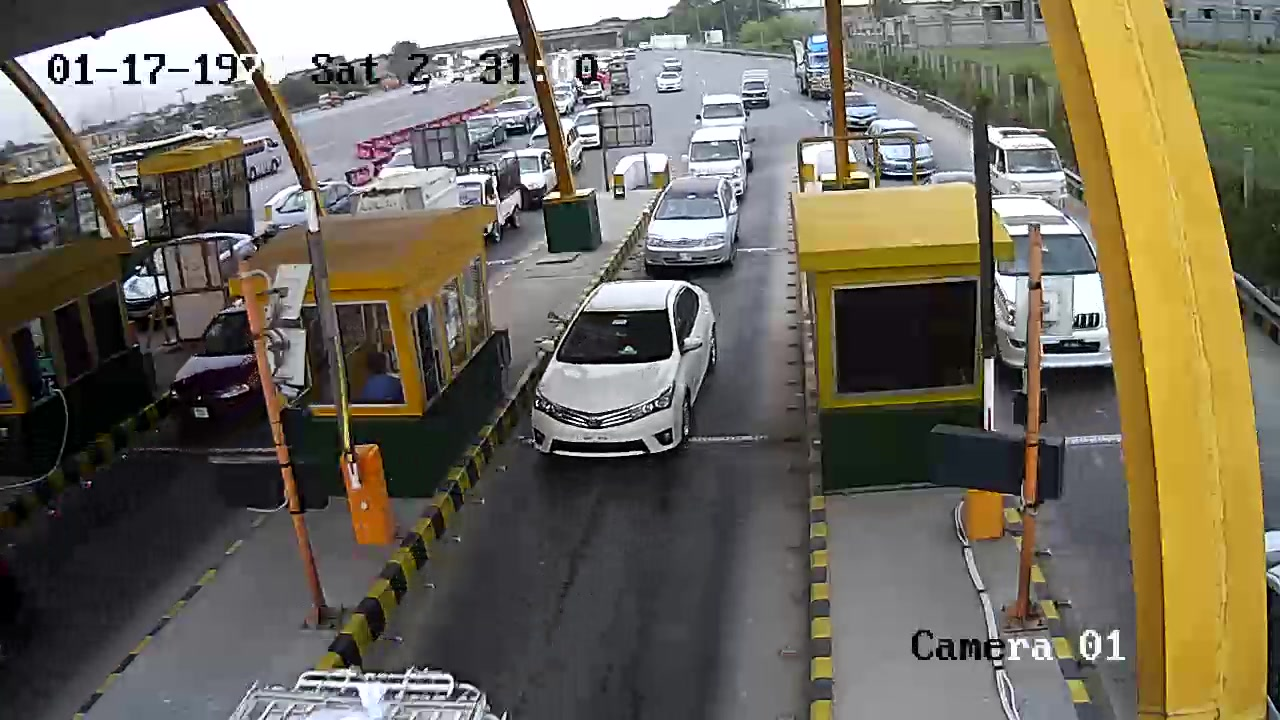F1: (517, 275, 741, 472)
